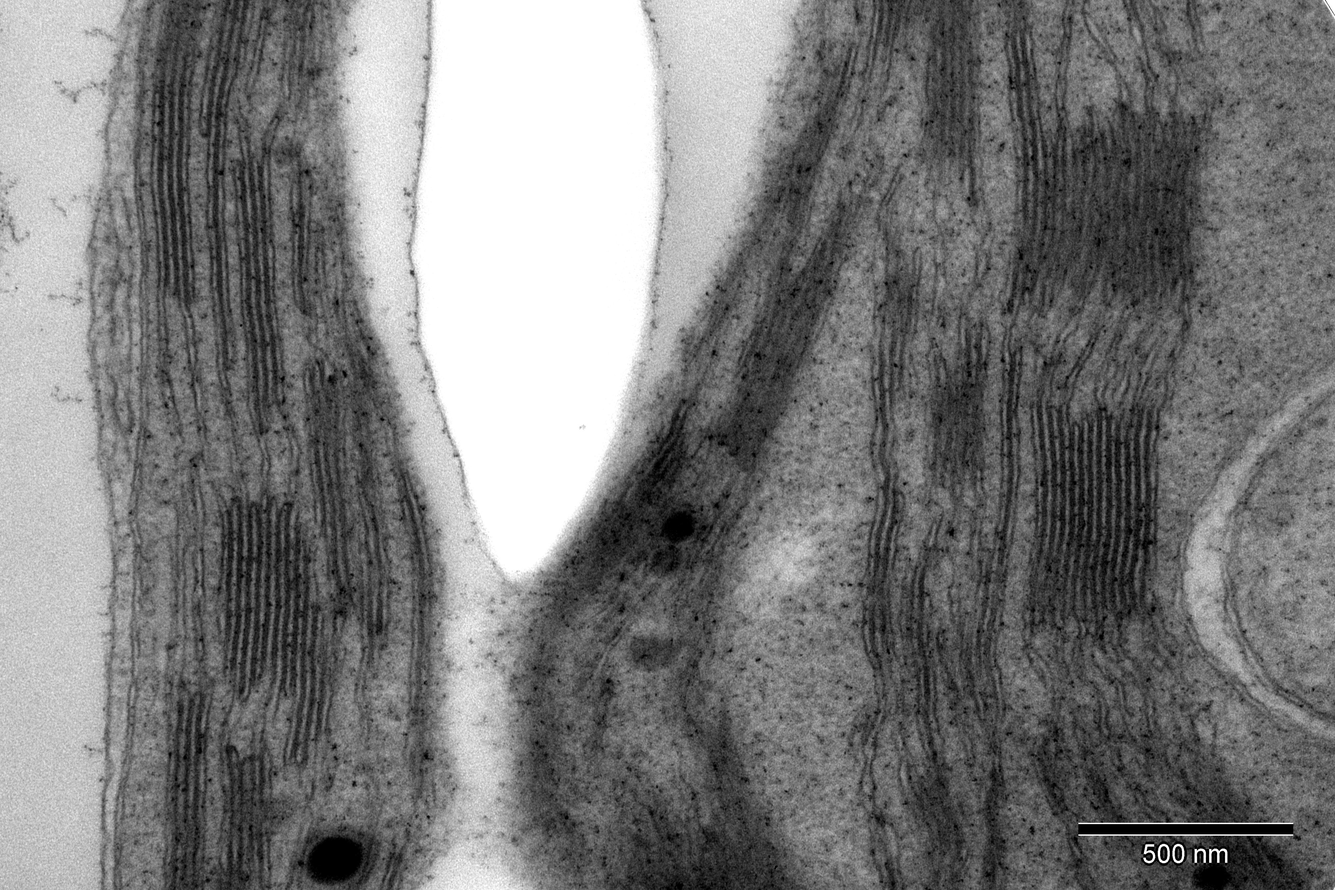granum: (997, 1, 1216, 323), (700, 177, 878, 483), (1017, 396, 1171, 633), (210, 489, 354, 742), (596, 723, 813, 889), (535, 422, 690, 633), (1157, 756, 1317, 890), (147, 1, 211, 307), (761, 59, 860, 255), (225, 154, 291, 414), (298, 357, 359, 595), (909, 0, 986, 184), (919, 315, 991, 490), (157, 684, 216, 889), (866, 218, 925, 405), (856, 480, 910, 678), (210, 747, 279, 890), (952, 544, 1015, 696), (144, 476, 192, 667), (894, 759, 976, 866), (197, 0, 258, 142), (272, 0, 328, 127), (353, 514, 396, 651), (286, 212, 337, 323), (894, 587, 942, 684), (164, 460, 210, 560), (865, 0, 912, 52)
